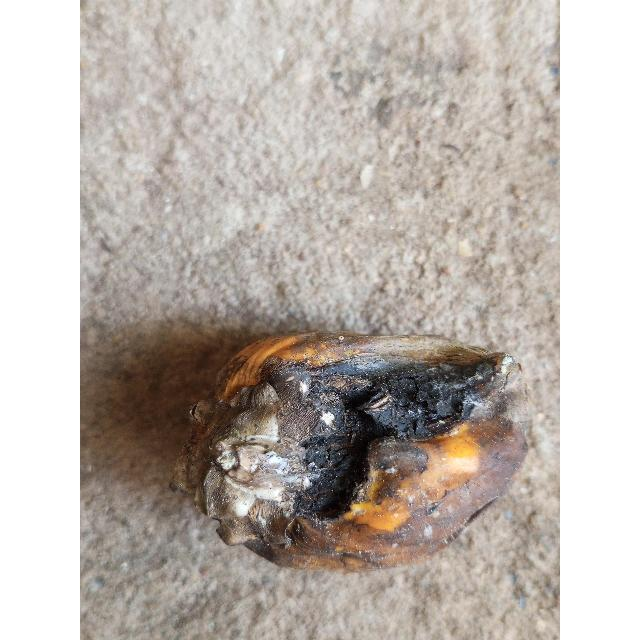damaged: (175, 335, 529, 577)
